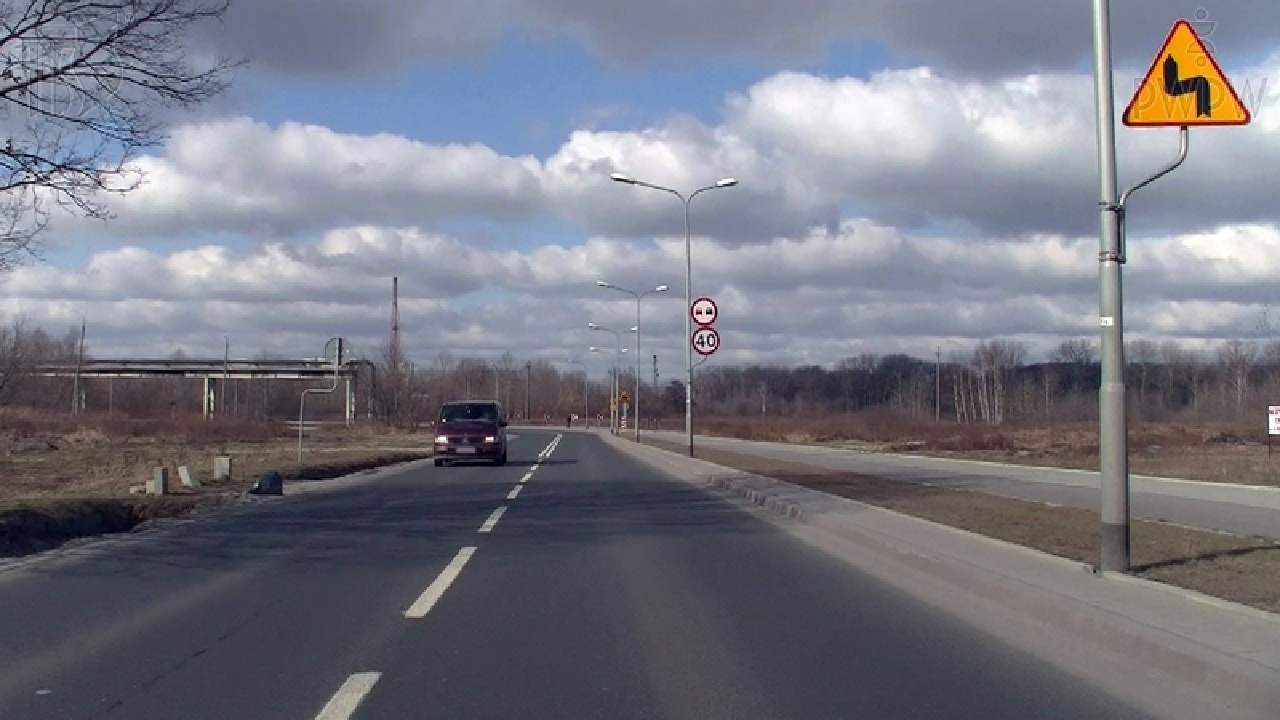A4: (1121, 17, 1252, 127)
B25: (691, 297, 718, 326)
B33_40: (692, 327, 720, 355)
